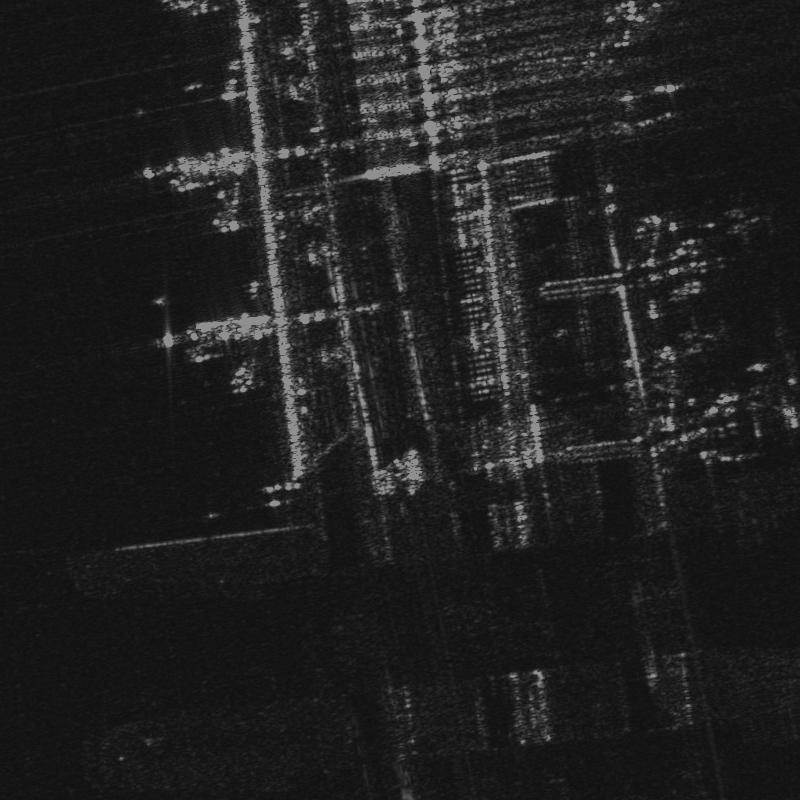Boeing737: (743, 377, 799, 437)
